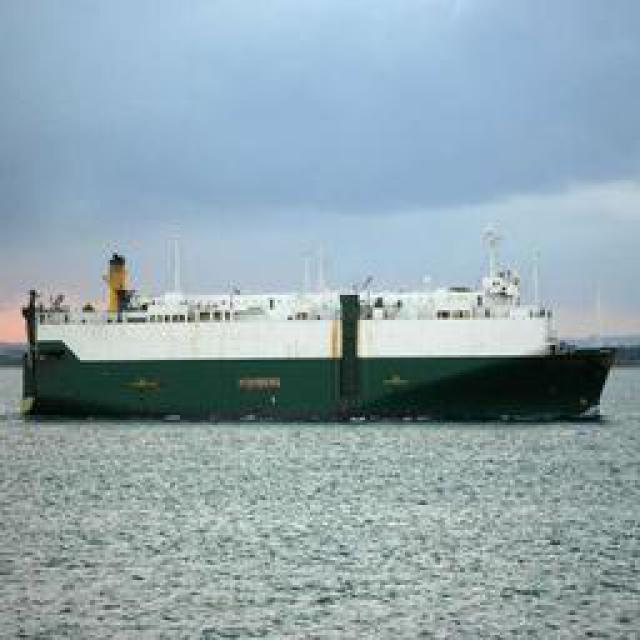Ship: (20, 222, 605, 422)
